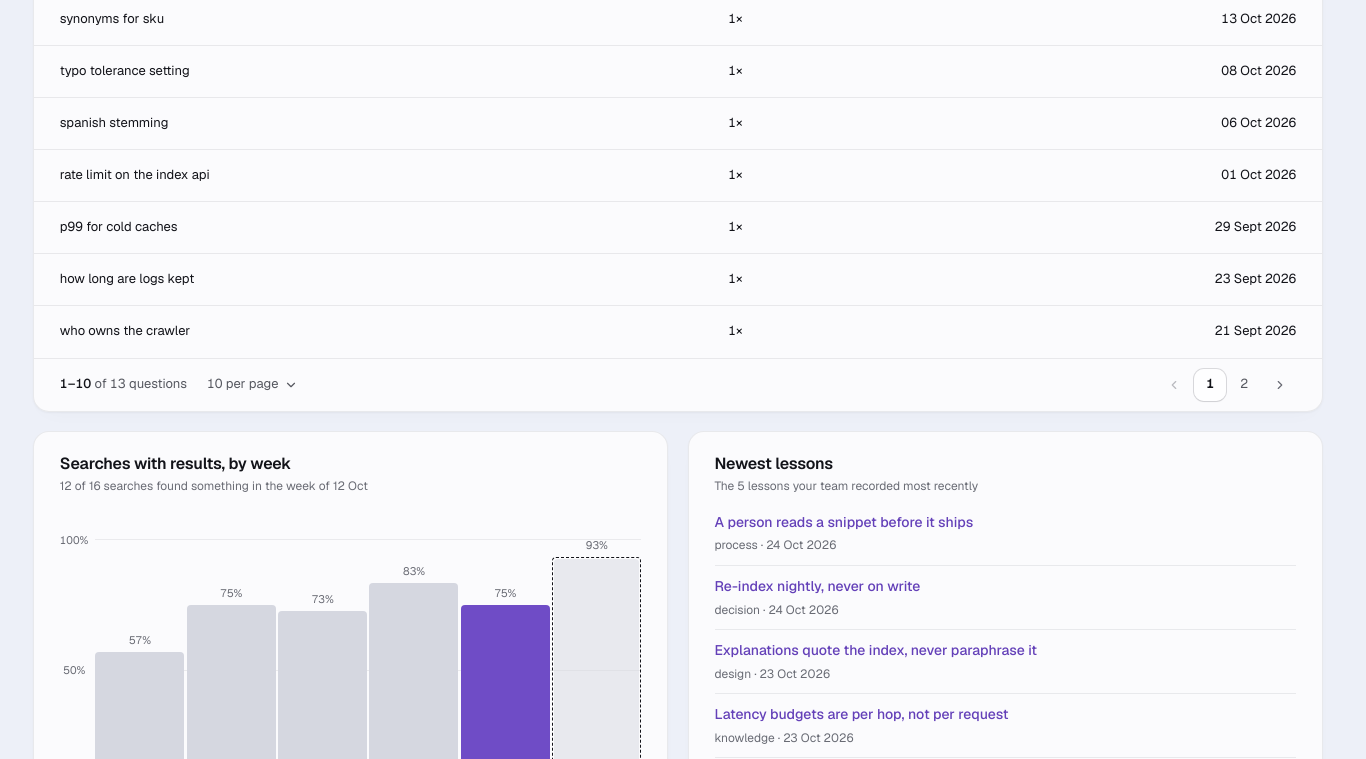
M-8: every question that found nothing is reachable from the page › is every question the fixture holds, and the table pages to the rest
This screenshot has width=1366, height=759.
(page scrolled)
Step 1. Click the button named "Next page" → (1280, 384), box [1264, 368, 1296, 400]
(page scrolled)
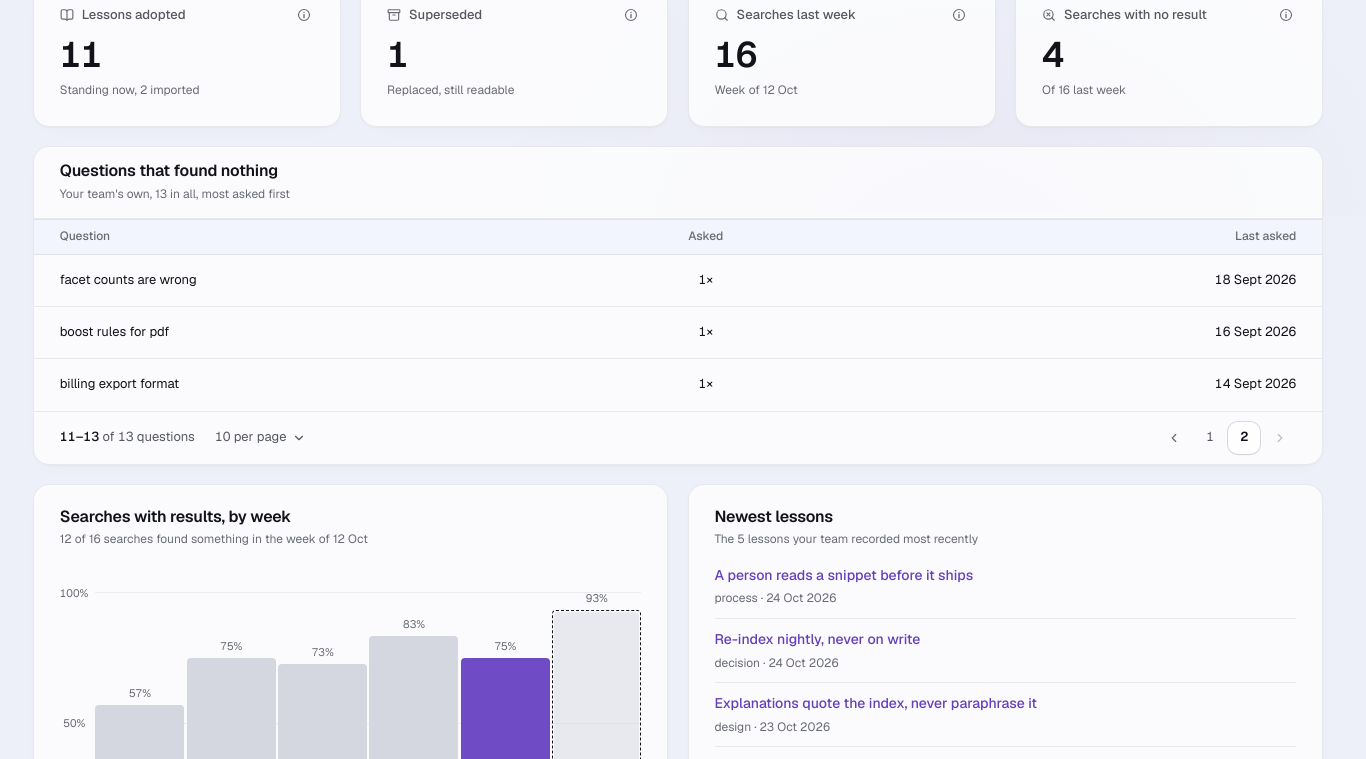
Result: the text "facet counts are wrong" is shown at [60, 268, 197, 292]
Result: the text "boost rules for pdf" is shown at [60, 323, 169, 340]
Result: the text "billing export format" is shown at [60, 372, 197, 397]
